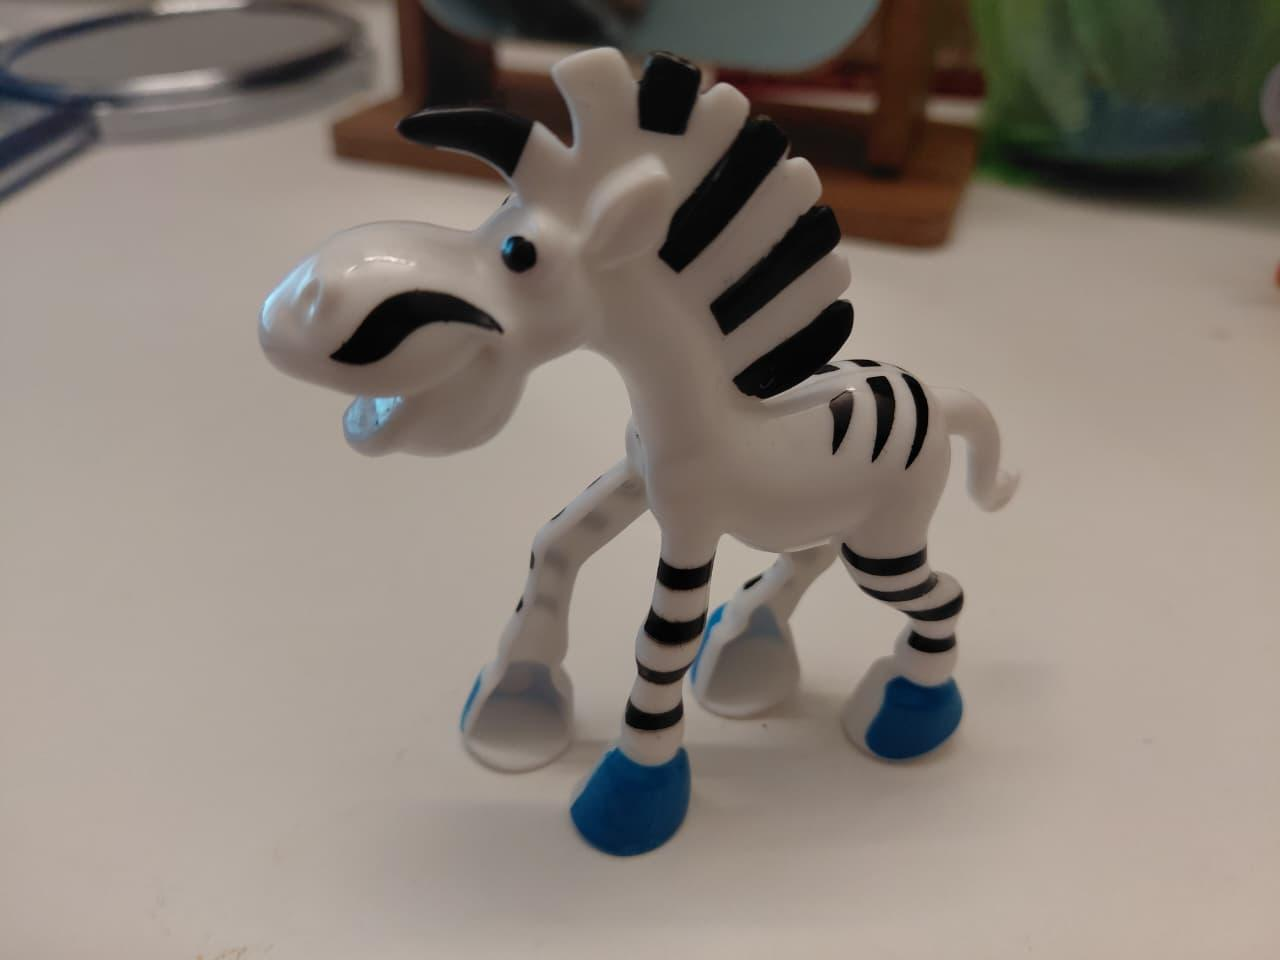zebra: (176, 0, 1032, 874)
